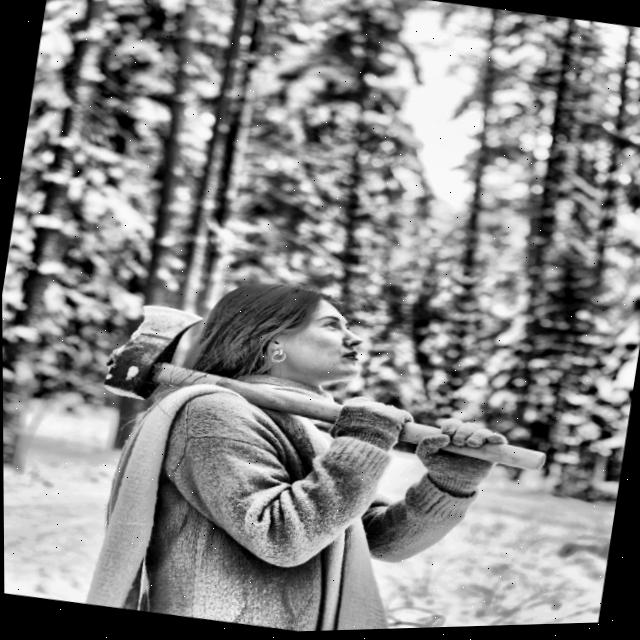kapak: (56, 279, 568, 511)
